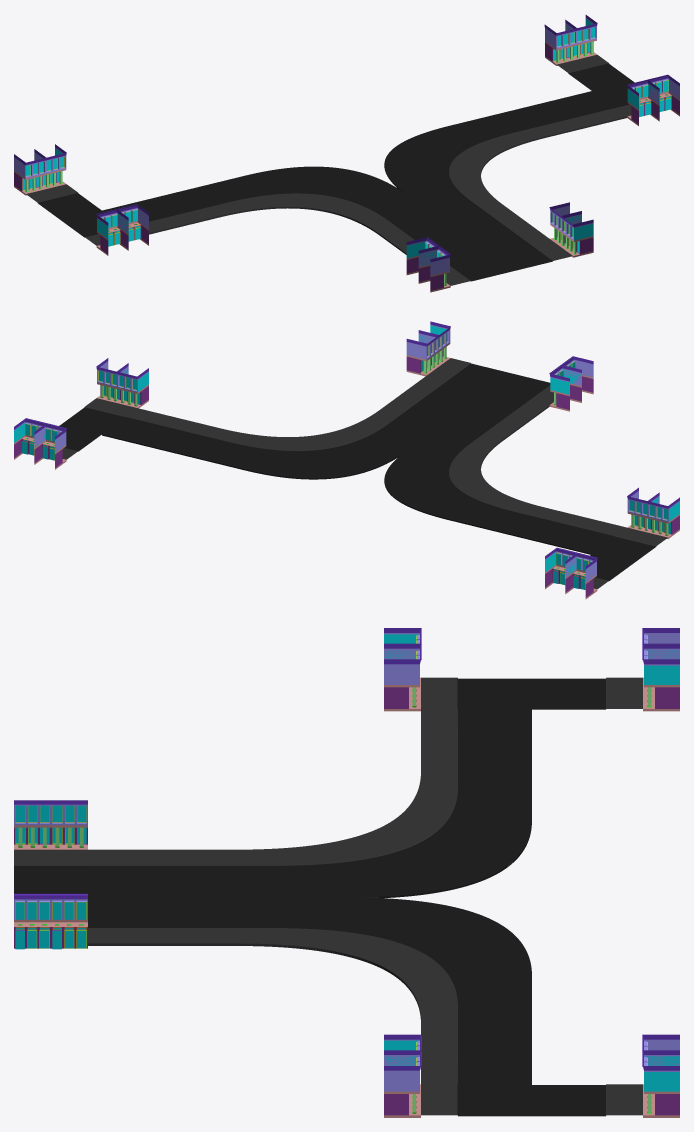
Rendered from Lvel_Tmplete.FBX.
3 renders of one model, top to bottom at view 1: azimuth 30°, elevation 25°; view 2: azimuth 150°, elevation 25°; view 3: azimuth 270°, elevation 25°, orthographic. The views are drawn at different scales.
Visible parts, largest first — view 1: Level_Template; view 2: Level_Template; view 3: Level_Template.
Boxes of the visible parts, x1,y1,x2,y2 form: Level_Template: (14, 15, 679, 292); Level_Template: (14, 321, 679, 599); Level_Template: (14, 628, 679, 1117).
Bounding box in the file's own units: 11202 × 7201 × 622.
